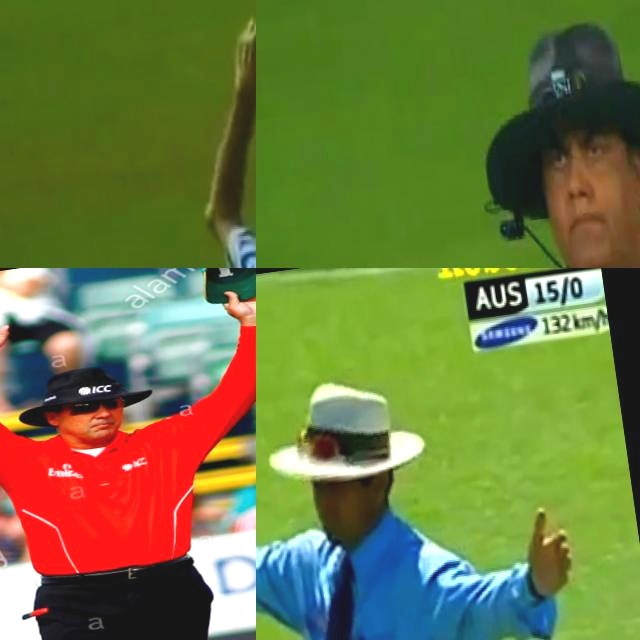No_Ball: (256, 0, 640, 268)
Six: (0, 268, 256, 640), (158, 0, 256, 268)
Wide: (256, 333, 602, 640)
